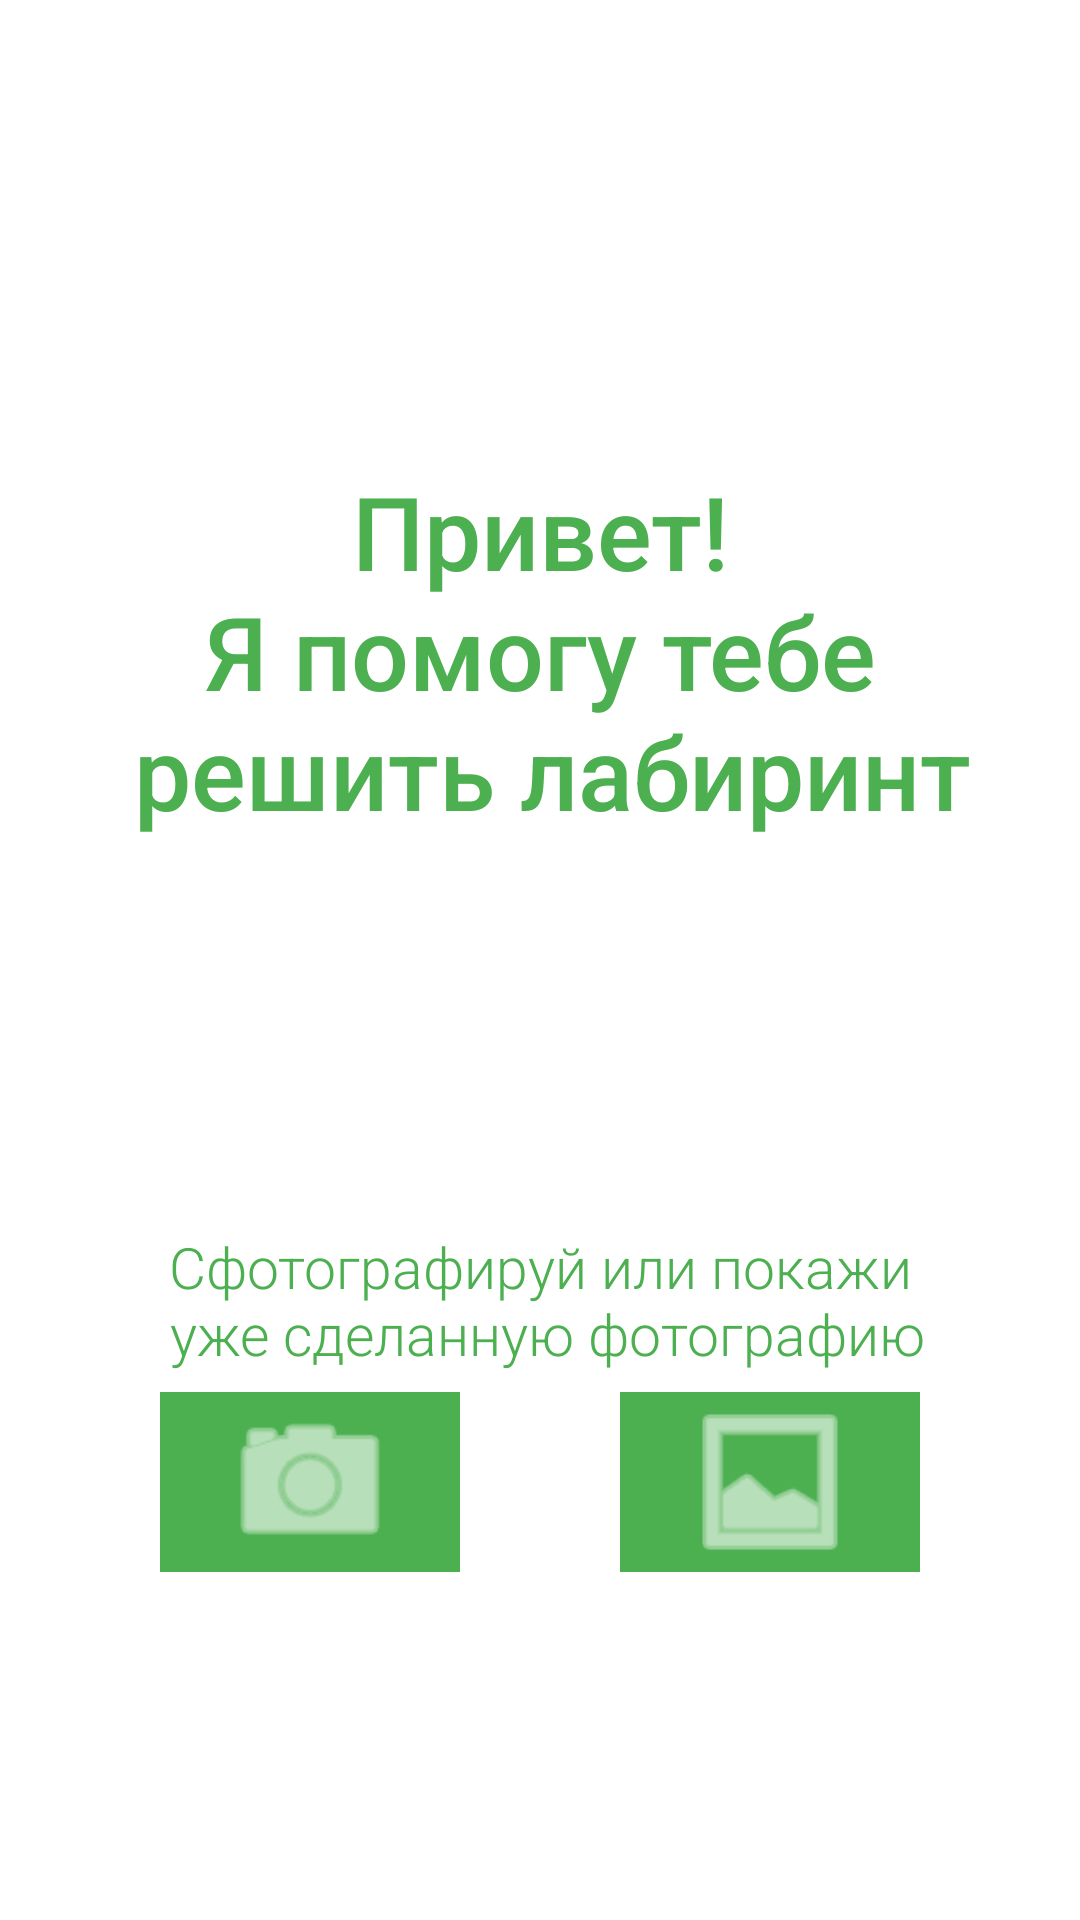

Where to tap for icons on this 1080px×1920px app screen, as (x=x, y=y):
camera: (x=310, y=1482)
gallery: (x=770, y=1482)
